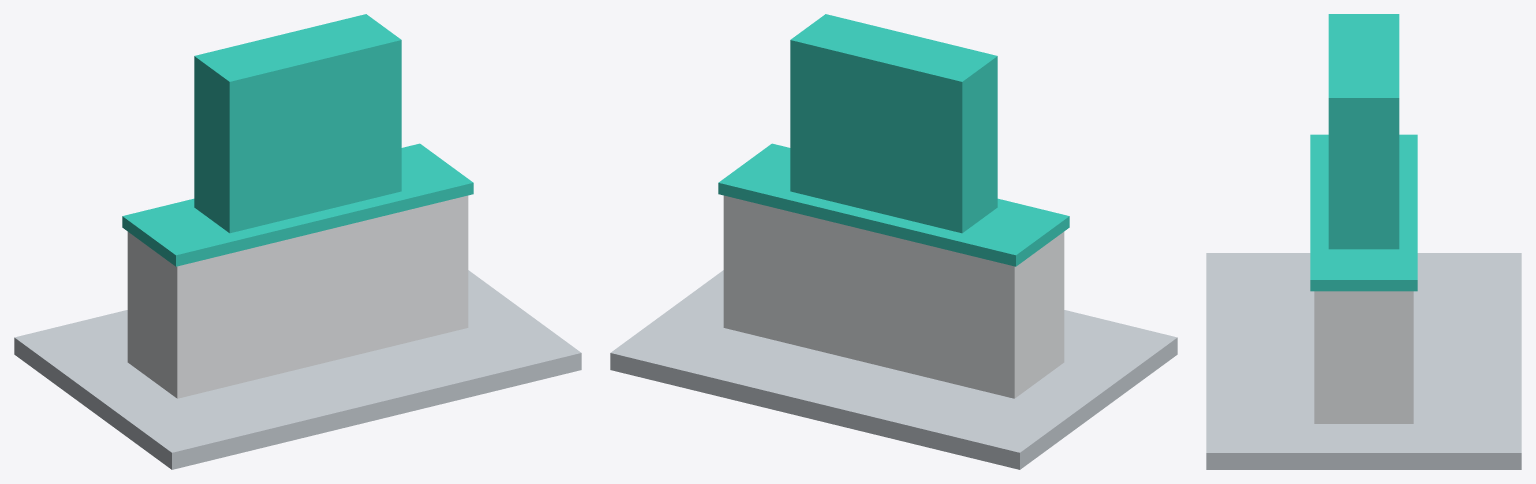
3 views of the same model, side by side, from view 1: azimuth 30°, elevation 25°; view 2: azimuth 150°, elevation 25°; view 3: azimuth 270°, elevation 25° (orthographic).
Visible parts, largest first — view 1: Exhibition Booth Concept; view 2: Exhibition Booth Concept; view 3: Exhibition Booth Concept.
Part boxes in pixels (x1,y1,x2,y2): Exhibition Booth Concept: [14, 14, 581, 469]; Exhibition Booth Concept: [610, 14, 1177, 469]; Exhibition Booth Concept: [1206, 14, 1521, 469].
Bounding box in the file's own units: 3 × 2.2 × 2.
